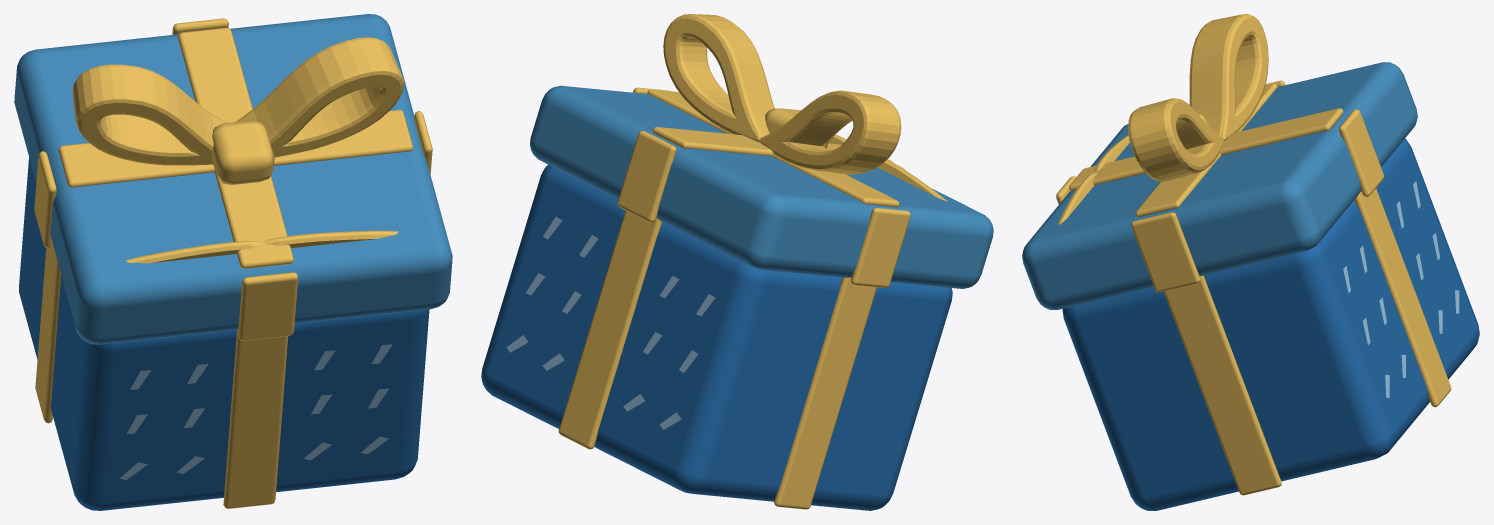
Rendered from giftblue.glb.
3 views of the same model, side by side, from view 1: azimuth 30°, elevation 25°; view 2: azimuth 150°, elevation 25°; view 3: azimuth 270°, elevation 25° (orthographic). The views are drawn at different scales.
Visible parts, largest first — view 1: giftblue; view 2: giftblue; view 3: giftblue.
Part boxes in pixels (x1,y1,x2,y2): giftblue: [14, 14, 452, 510]; giftblue: [481, 14, 993, 510]; giftblue: [1022, 14, 1479, 510].
Bounding box in the file's own units: 1.02 × 1.06 × 1.09.
